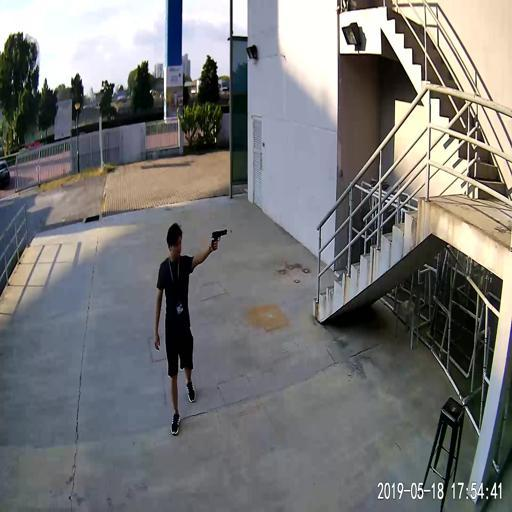Handgun: (209, 227, 226, 248)
